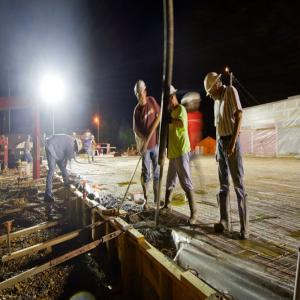blue: (28, 135, 32, 143)
white: (204, 72, 224, 102), (168, 84, 179, 111), (136, 80, 147, 105), (76, 140, 84, 154), (74, 133, 77, 138), (92, 136, 95, 141)
